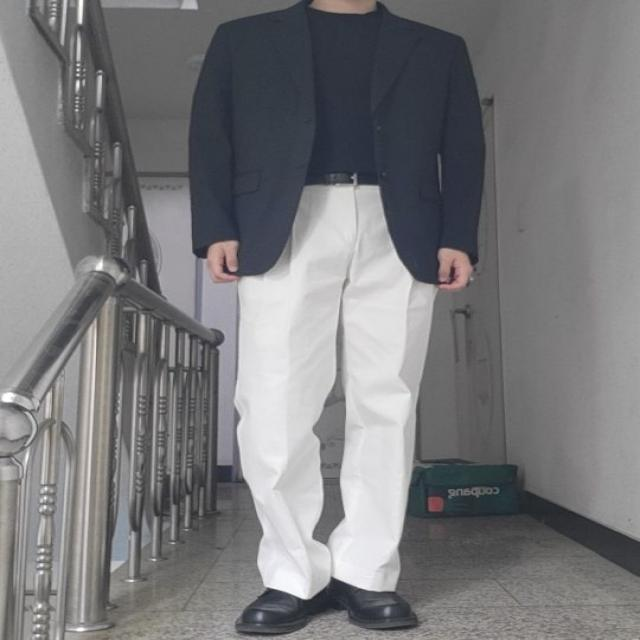blazer: (194, 2, 492, 286)
cottonpants: (238, 178, 444, 592)
